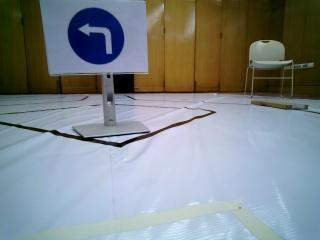left: (42, 1, 147, 71)
